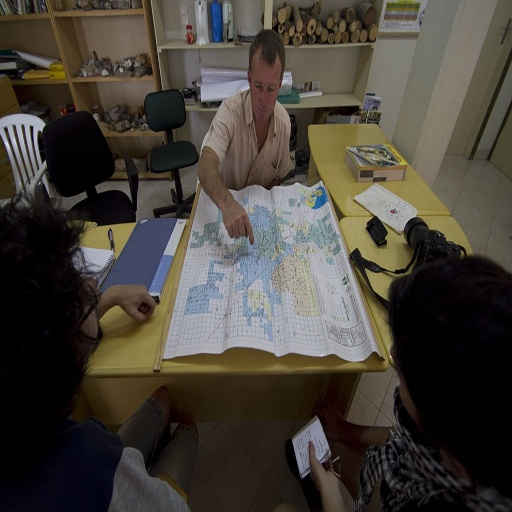hand: (97, 277, 152, 332), (307, 439, 338, 496), (221, 197, 254, 247), (311, 398, 347, 439)
